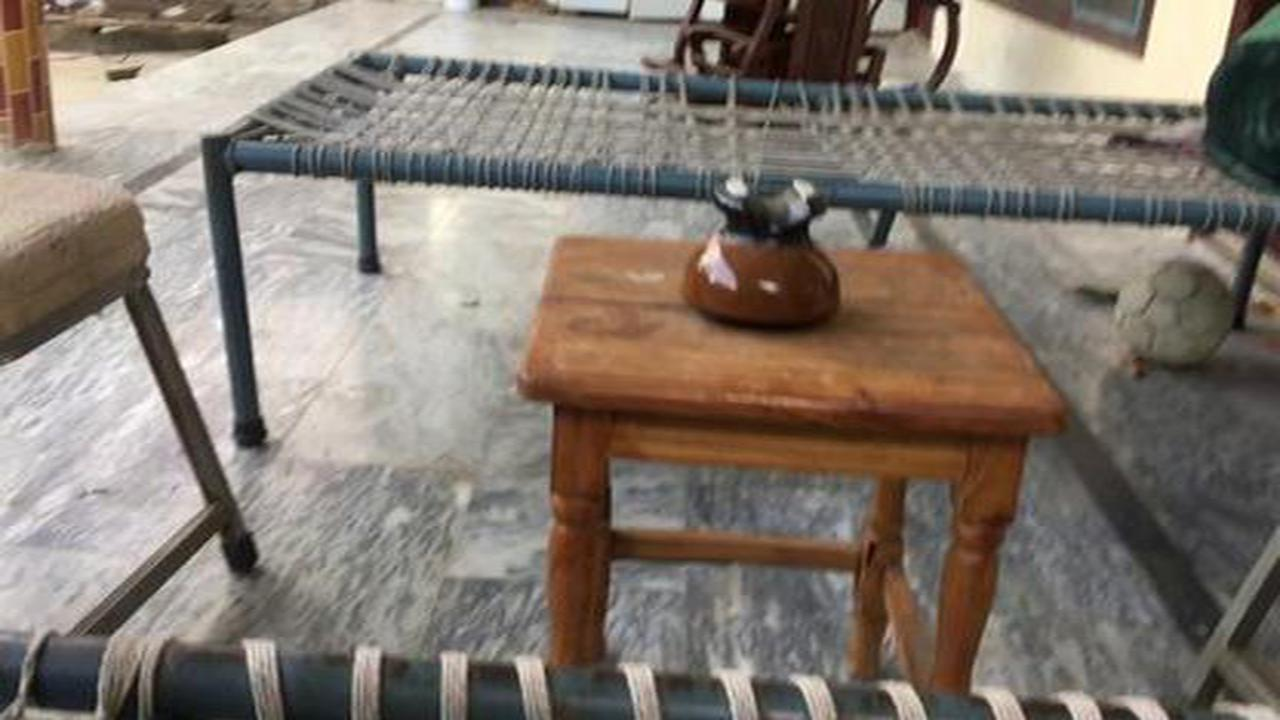insulator_pin: (659, 160, 865, 347)
